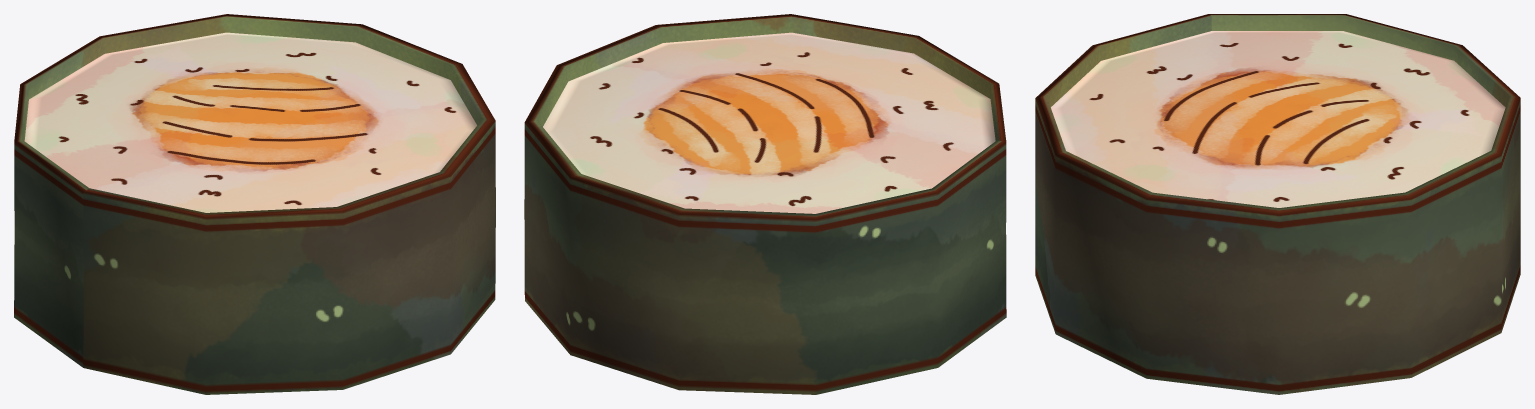
Rendered from sushi roll salmon.fbx.
3 views of the same model, side by side, from view 1: azimuth 30°, elevation 25°; view 2: azimuth 150°, elevation 25°; view 3: azimuth 270°, elevation 25° (orthographic).
Visible parts, largest first — view 1: sushi_roll_salmon; view 2: sushi_roll_salmon; view 3: sushi_roll_salmon.
Boxes of the visible parts, x1,y1,x2,y2 form: sushi_roll_salmon: [14, 14, 495, 394]; sushi_roll_salmon: [524, 14, 1006, 394]; sushi_roll_salmon: [1035, 14, 1520, 394].
Size of the model in its own units: 6.02 by 2.52 by 6.07.
